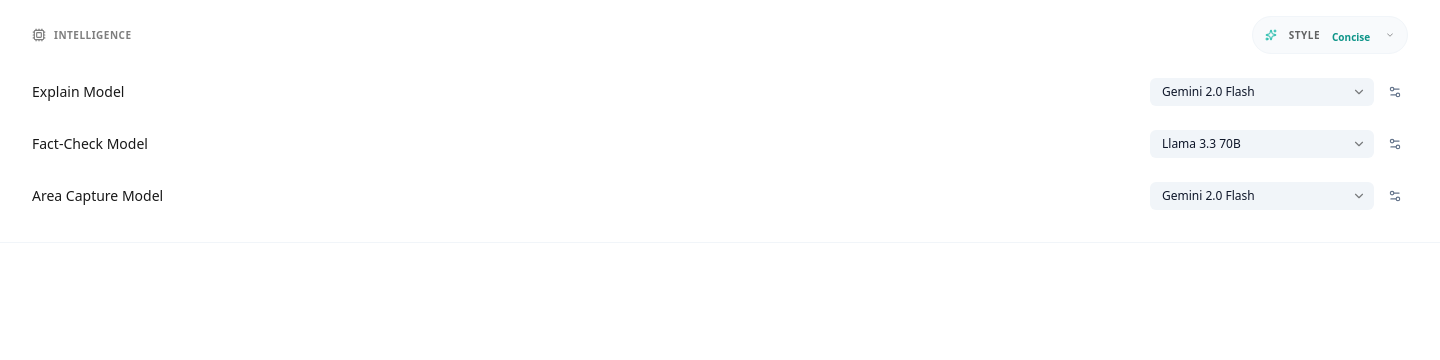
Test: IntelligenceSection › should toggle advanced settings and NOT show system prompt
The image size is (1440, 360).
Click the button titled "advanced settings" in the row of "Explain": click(1395, 92) 1382,79 -> 1408,105
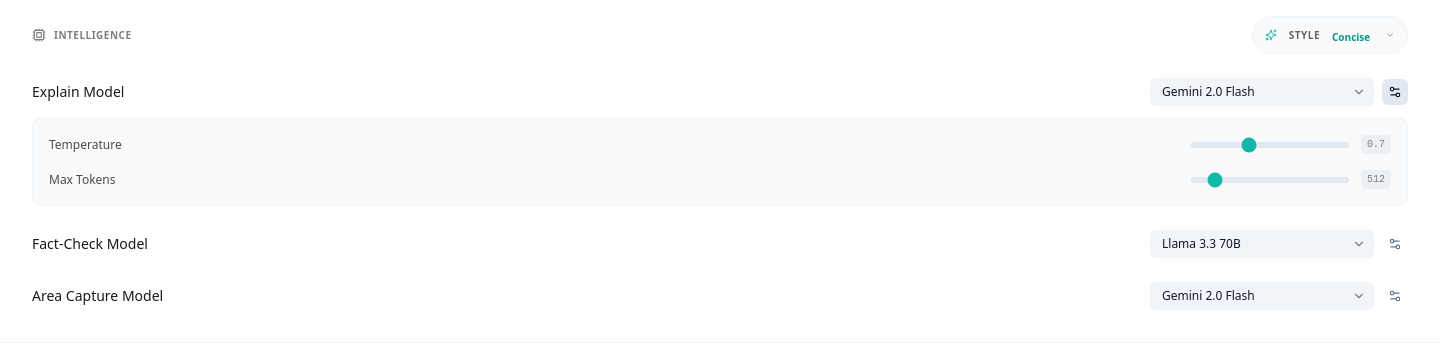
Expected: the slider labelled "Temperature" is shown, 1191,142 -> 1349,148
Expected: the slider labelled "Max Tokens" is shown, 1191,176 -> 1349,182
